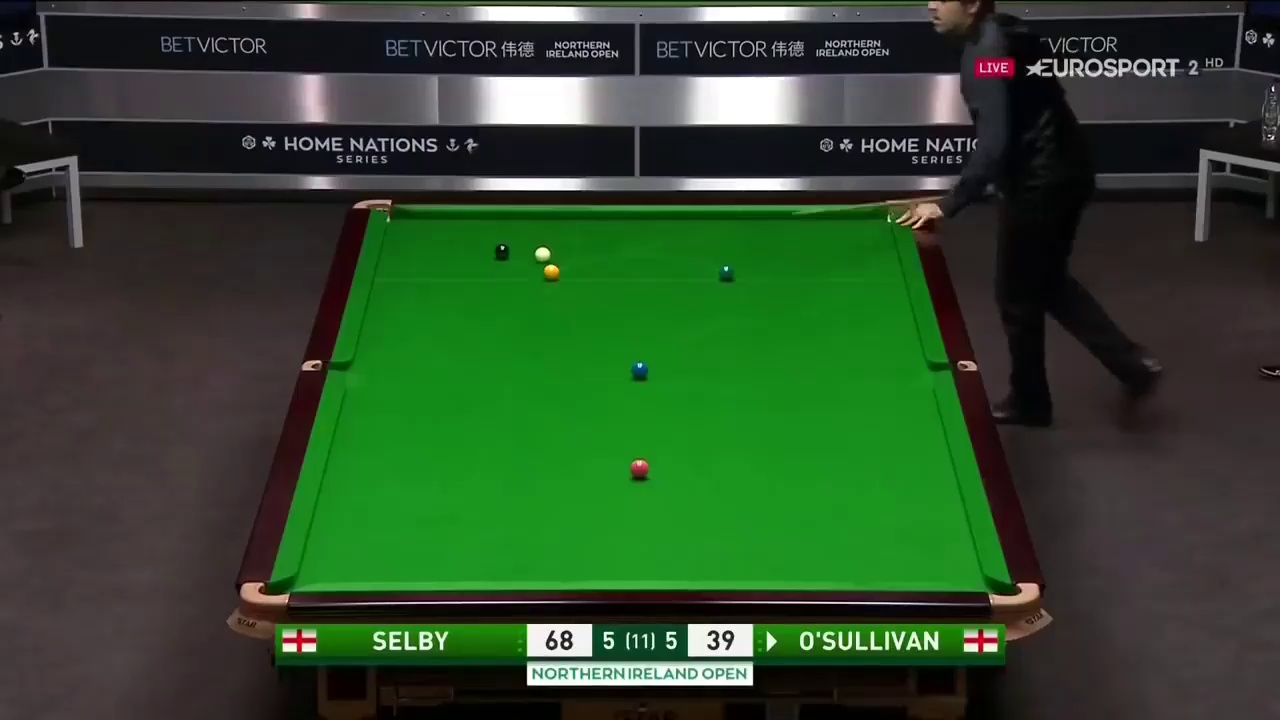black: (493, 241, 510, 259)
blue: (631, 362, 647, 380)
green: (718, 264, 734, 282)
pink: (631, 460, 647, 476)
white: (534, 244, 551, 262)
yellow: (540, 263, 559, 281)
